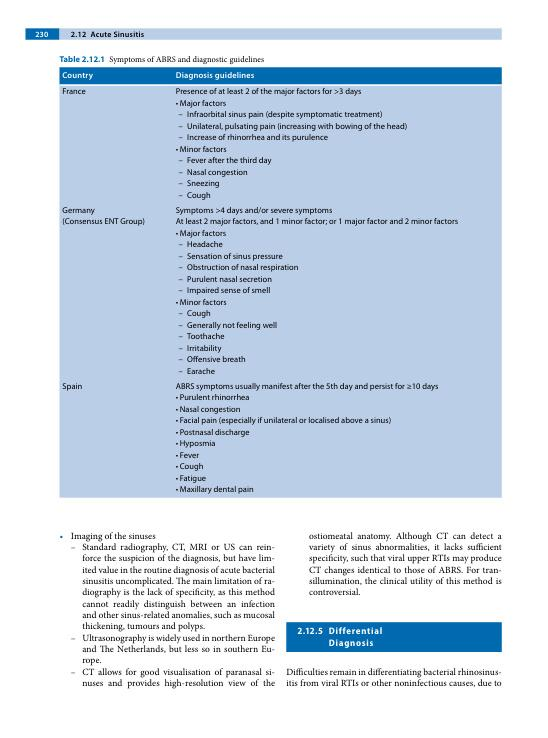caption: (59, 55, 265, 65)
header: (90, 30, 145, 38)
list: (59, 530, 276, 691), (307, 530, 503, 597)
section-heading: (328, 626, 383, 649)
table: (59, 66, 502, 498)
text: (285, 667, 503, 689)
